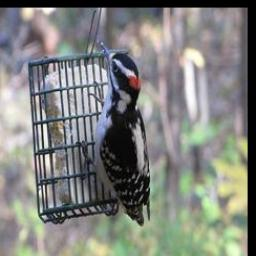Woodpecker: (78, 38, 151, 227)
